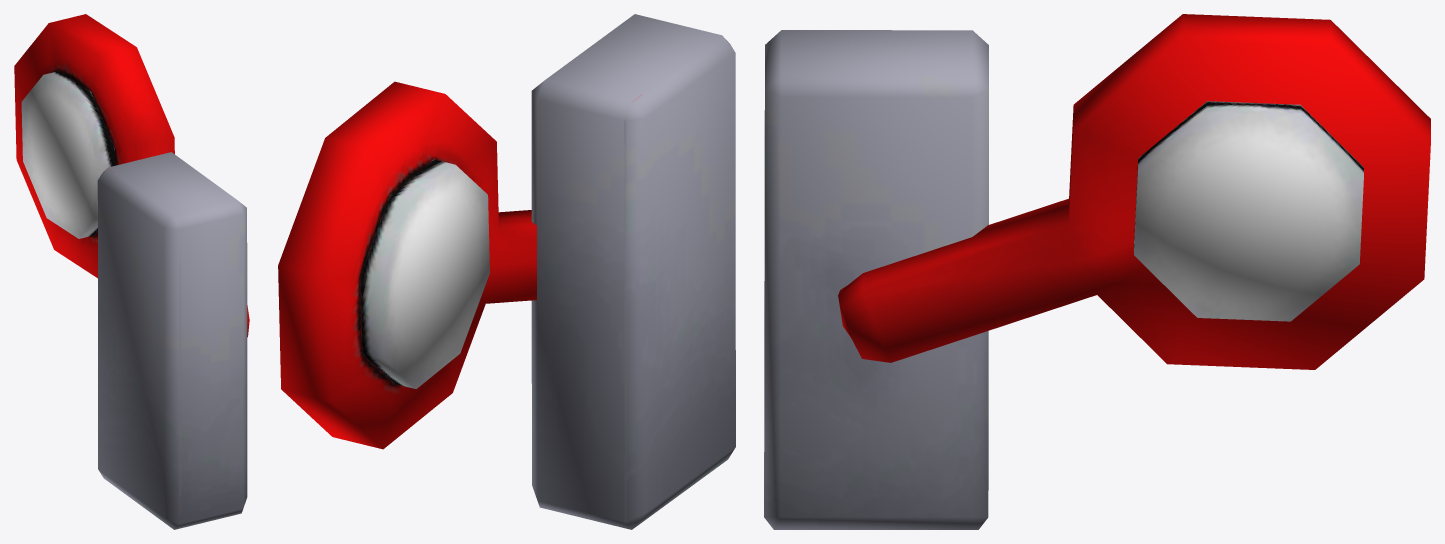
The model's file is Switch.fbx.
The picture shows the model from 3 angles, left to right: view 1: azimuth 30°, elevation 25°; view 2: azimuth 150°, elevation 25°; view 3: azimuth 270°, elevation 25°; orthographic projection. The views are drawn at different scales.
Visible parts, largest first — view 1: SM_SwitchBase, SM_Switch; view 2: SM_SwitchBase, SM_Switch; view 3: SM_Switch, SM_SwitchBase.
Boxes of the visible parts, x1,y1,x2,y2 form: SM_SwitchBase: [97, 152, 247, 529]; SM_Switch: [14, 14, 249, 337]; SM_SwitchBase: [531, 14, 735, 529]; SM_Switch: [278, 81, 536, 449]; SM_Switch: [838, 14, 1430, 369]; SM_SwitchBase: [764, 30, 988, 529].
Bounding box in the file's own units: 18.6 × 48.93 × 57.41.
Materials: 1 (1 with a texture image).
